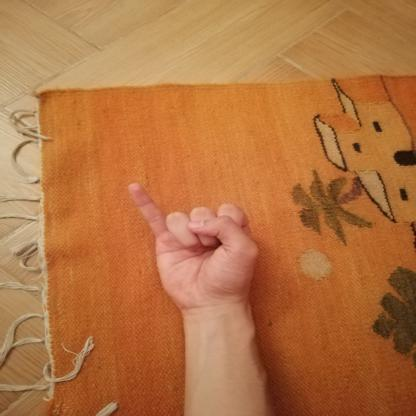MEEM: (112, 171, 272, 320)
